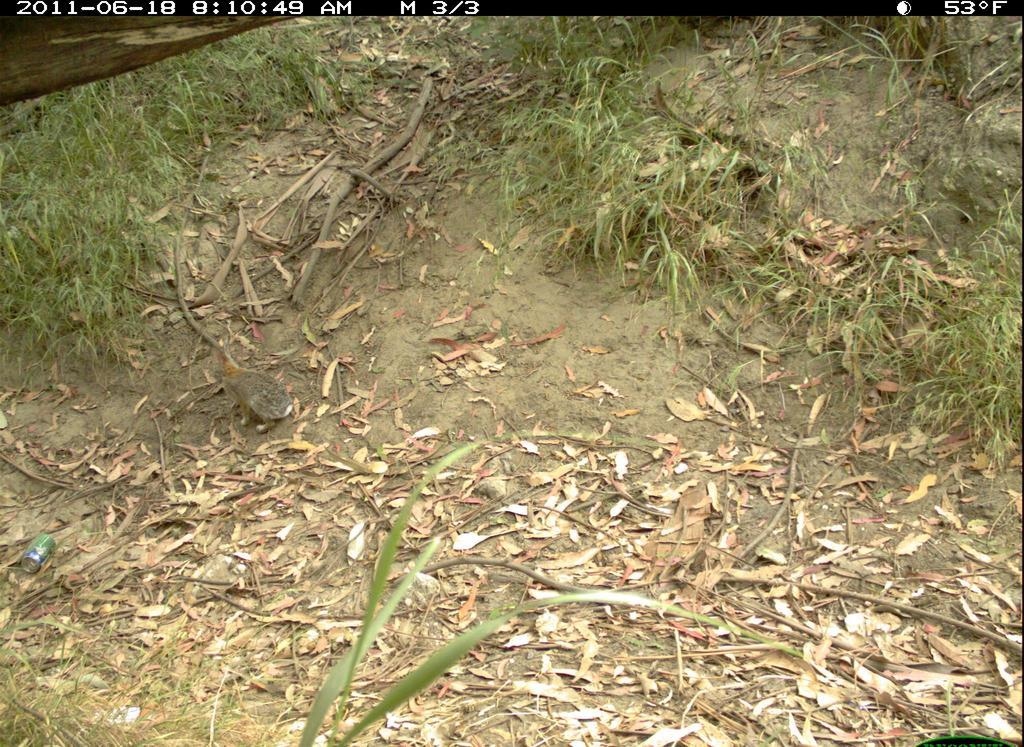rabbit: (199, 340, 309, 438)
